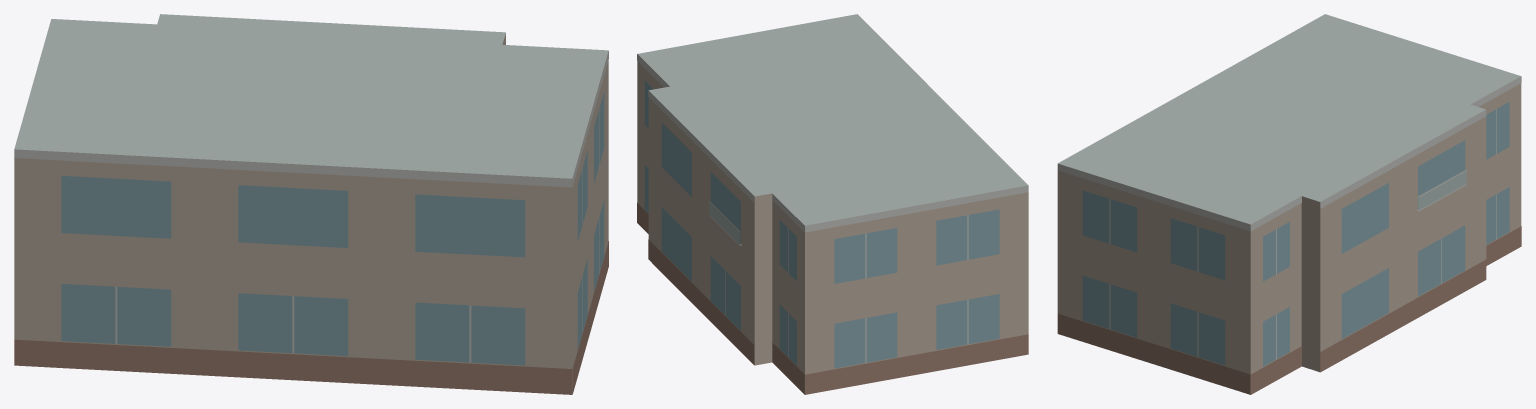
Rendered from survey-upis-32932273.glb.
3 renders of one model, left to right at view 1: azimuth 30°, elevation 25°; view 2: azimuth 150°, elevation 25°; view 3: azimuth 270°, elevation 25°, orthographic. The views are drawn at different scales.
Parts seen in each view (by area): view 1: survey-upis-32932273.tmp; view 2: survey-upis-32932273.tmp; view 3: survey-upis-32932273.tmp.
Boxes of the visible parts, x1,y1,x2,y2 form: survey-upis-32932273.tmp: (14,14,608,394); survey-upis-32932273.tmp: (637,14,1028,394); survey-upis-32932273.tmp: (1057,14,1521,394).
Bounding box in the file's own units: 16.18 × 6.1 × 15.06.
